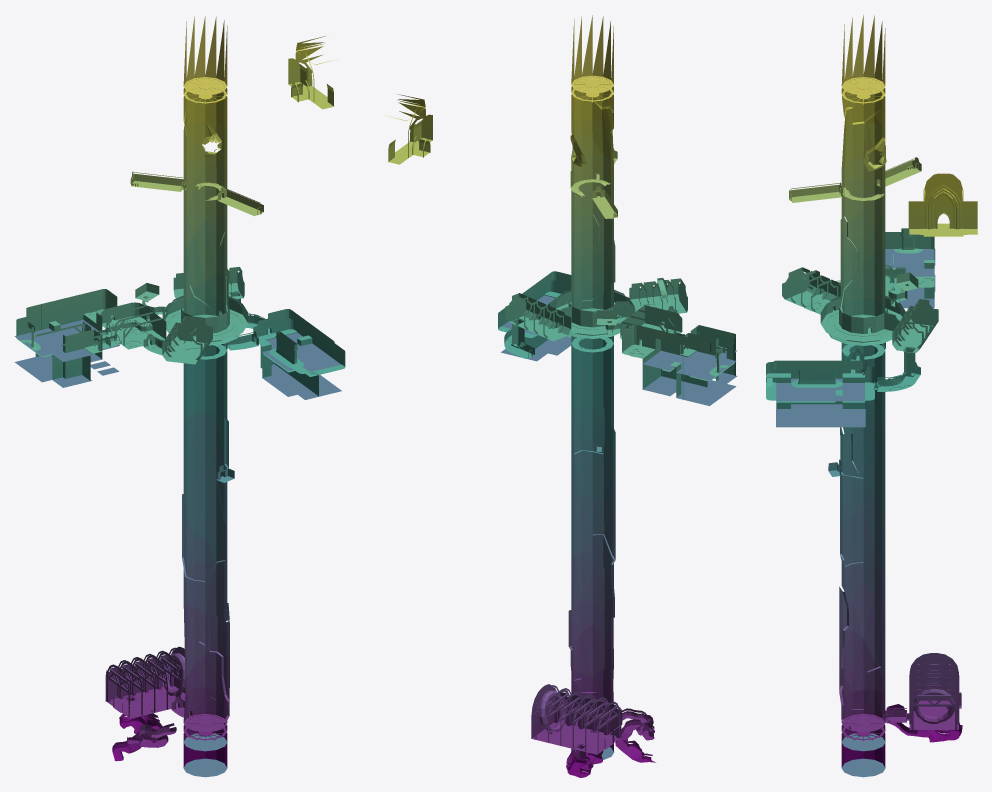
The model's file is 510_AUT_droptunnel.glb.
3 views of the same model, side by side, from view 1: azimuth 30°, elevation 25°; view 2: azimuth 150°, elevation 25°; view 3: azimuth 270°, elevation 25° (orthographic). The views are drawn at different scales.
Visible parts, largest first — view 1: walls, floors, water; view 2: walls, floors, water; view 3: walls, floors, water.
Boxes of the visible parts, x1,y1,x2,y2 form: walls: (16,16,345,767); floors: (16,45,344,761); water: (14,319,341,777); walls: (388,15,735,773); floors: (386,75,734,777); water: (501,295,737,759); walls: (766,15,977,767); floors: (766,77,977,742); water: (776,249,935,777).
Size of the model in its own units: 173 by 374 by 96.18.
